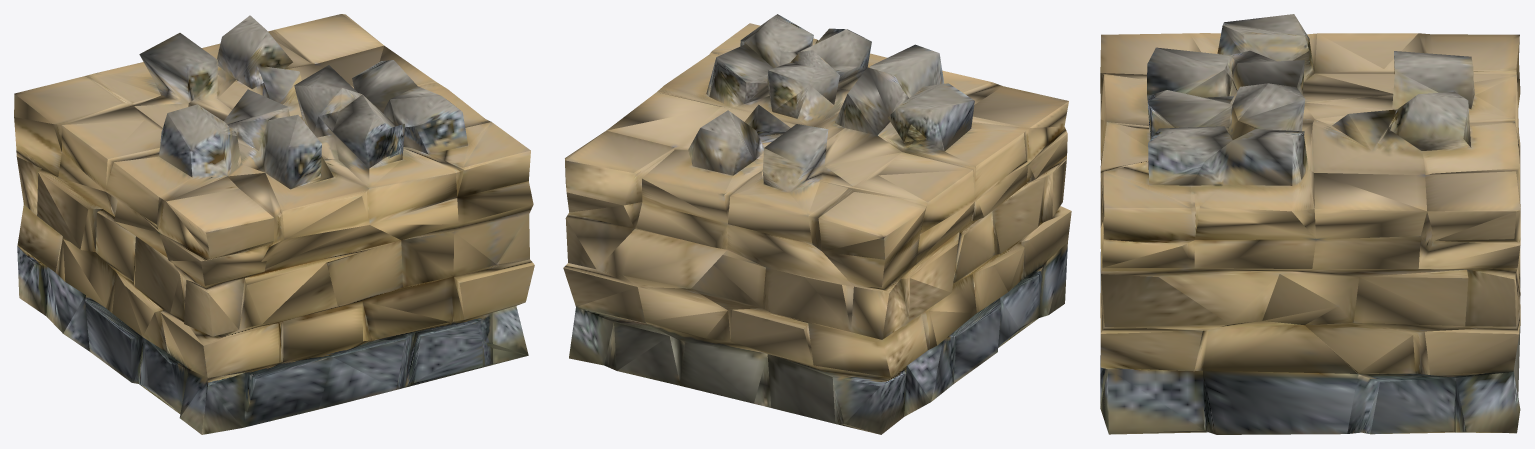
File: cover_half_plains_v1_lod1.glb
The picture shows the model from 3 angles, left to right: view 1: azimuth 30°, elevation 25°; view 2: azimuth 150°, elevation 25°; view 3: azimuth 270°, elevation 25°; orthographic projection. The views are drawn at different scales.
Bounding box in the file's own units: 0.9799 × 0.7203 × 0.9796.
1 material, 1 textured.
